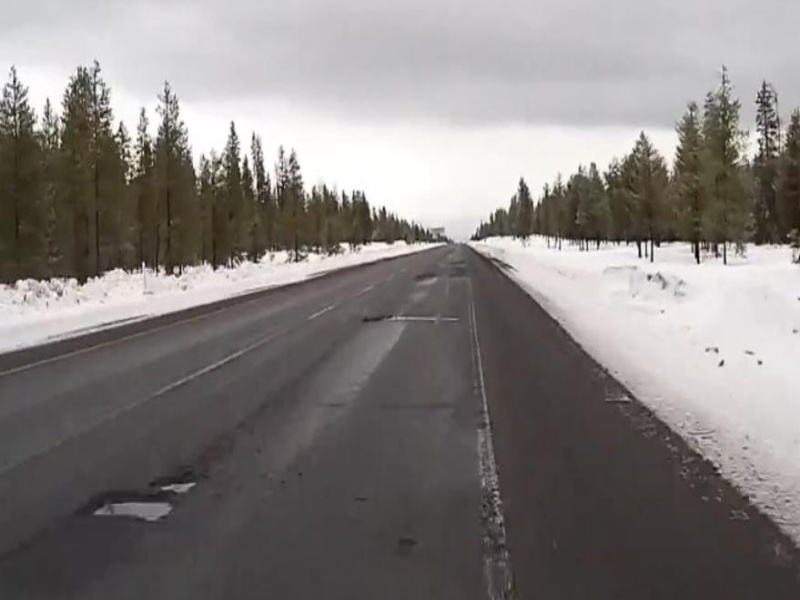pothole: (81, 496, 181, 526), (143, 474, 203, 494)
